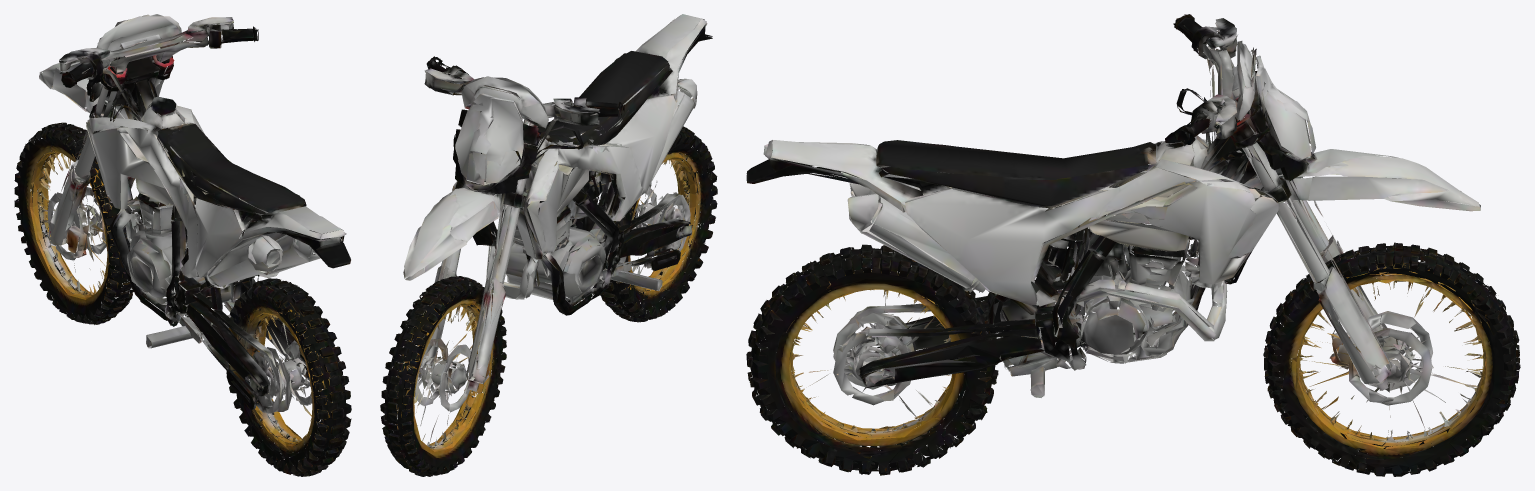
The model's file is bike_enduro_lo.glb.
3 views of the same model, side by side, from view 1: azimuth 30°, elevation 25°; view 2: azimuth 150°, elevation 25°; view 3: azimuth 270°, elevation 25° (orthographic). The views are drawn at different scales.
Visible parts, largest first — view 1: bike_body, wheel_r, wheel_f; view 2: bike_body, wheel_f, wheel_r; view 3: bike_body, wheel_r, wheel_f.
Boxes of the visible parts, left/top/right/bottom form: bike_body: left=39, top=14, right=350, bottom=416; wheel_r: left=203, top=278, right=351, bottom=476; wheel_f: left=14, top=122, right=134, bottom=324; bike_body: left=403, top=14, right=712, bottom=442; wheel_f: left=380, top=269, right=506, bottom=476; wheel_r: left=592, top=126, right=717, bottom=322; bike_body: left=746, top=14, right=1480, bottom=430; wheel_r: left=746, top=244, right=1005, bottom=475; wheel_f: left=1263, top=240, right=1520, bottom=476.
Bounding box in the file's own units: 0.9056 × 1.53 × 2.52.
1 material, 1 textured.
